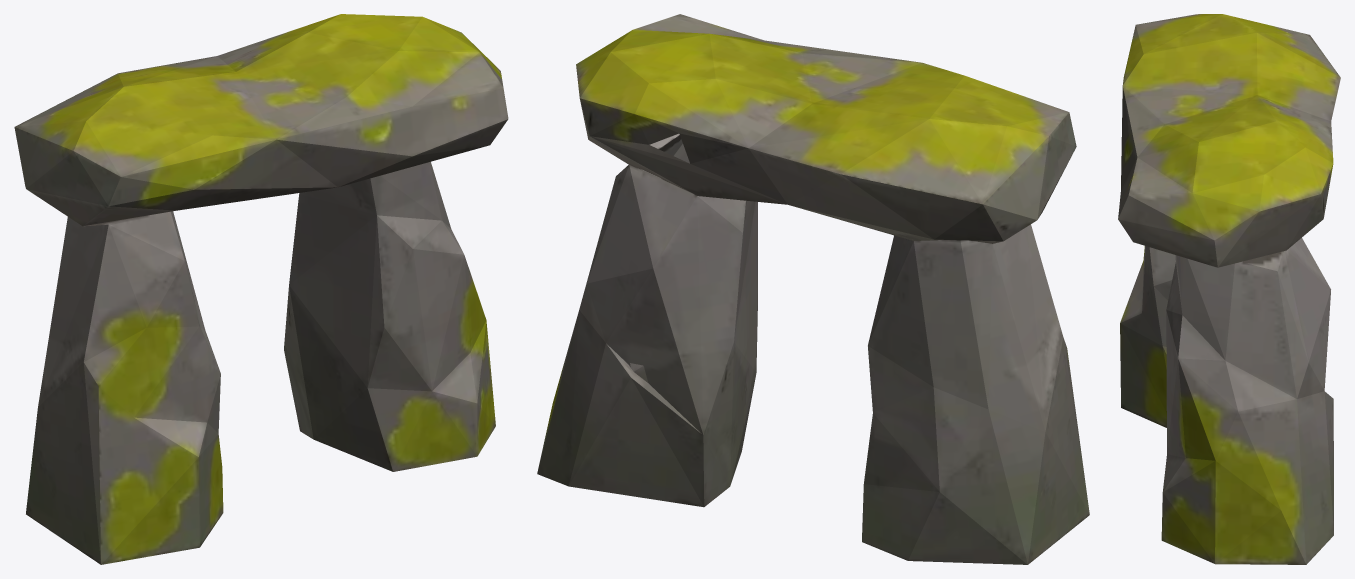
The model's file is standing-stone-b.glb.
3 views of the same model, side by side, from view 1: azimuth 30°, elevation 25°; view 2: azimuth 150°, elevation 25°; view 3: azimuth 270°, elevation 25° (orthographic). The views are drawn at different scales.
Visible parts, largest first — view 1: standing-stone-b; view 2: standing-stone-b; view 3: standing-stone-b.
Part boxes in pixels (box(x1,y1,x2,y2)): standing-stone-b: box(14, 14, 508, 564); standing-stone-b: box(537, 14, 1089, 564); standing-stone-b: box(1118, 14, 1340, 564).
Size of the model in its own units: 3.75 by 3.2 by 1.73.
Materials: 1 (1 with a texture image).
